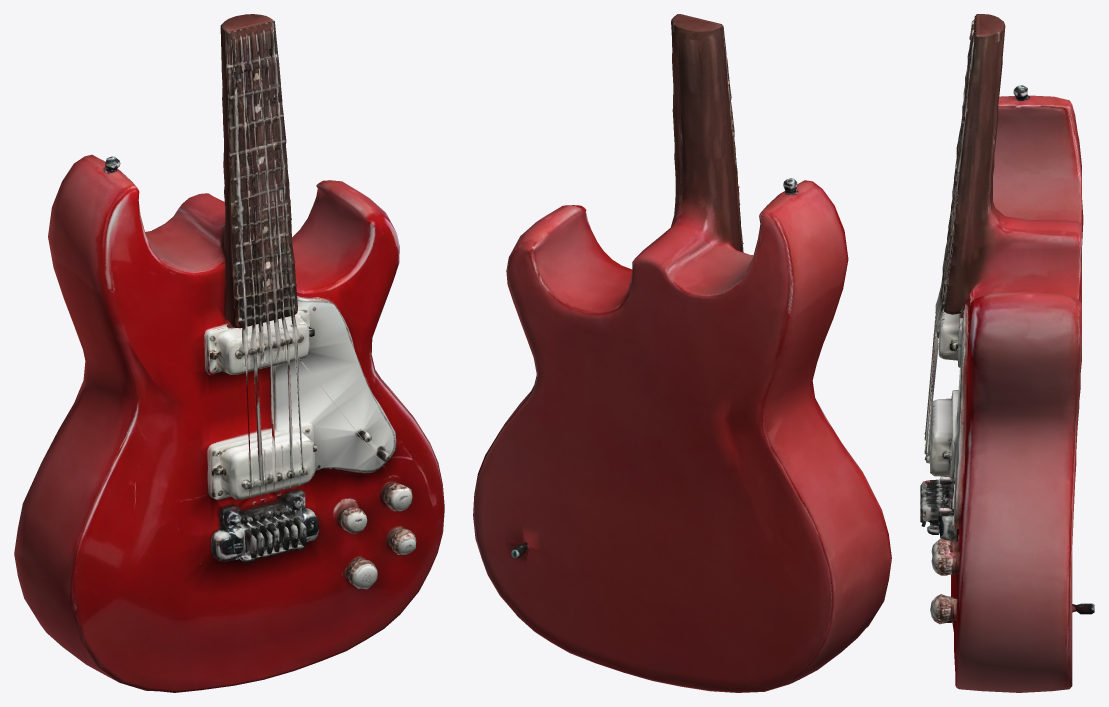
The model's file is electric.glb.
3 renders of one model, left to right at view 1: azimuth 30°, elevation 25°; view 2: azimuth 150°, elevation 25°; view 3: azimuth 270°, elevation 25°, orthographic. The views are drawn at different scales.
Visible parts, largest first — view 1: tripo_node_4bd75d99-9039-4874-97e2-4ecf0e4593bc; view 2: tripo_node_4bd75d99-9039-4874-97e2-4ecf0e4593bc; view 3: tripo_node_4bd75d99-9039-4874-97e2-4ecf0e4593bc.
Part boxes in pixels (x1,y1,x2,y2): tripo_node_4bd75d99-9039-4874-97e2-4ecf0e4593bc: (14, 14, 444, 692); tripo_node_4bd75d99-9039-4874-97e2-4ecf0e4593bc: (473, 14, 891, 692); tripo_node_4bd75d99-9039-4874-97e2-4ecf0e4593bc: (920, 14, 1094, 692).
Size of the model in its own units: 0.5922 by 0.9793 by 0.2396.
1 material, 1 textured.
